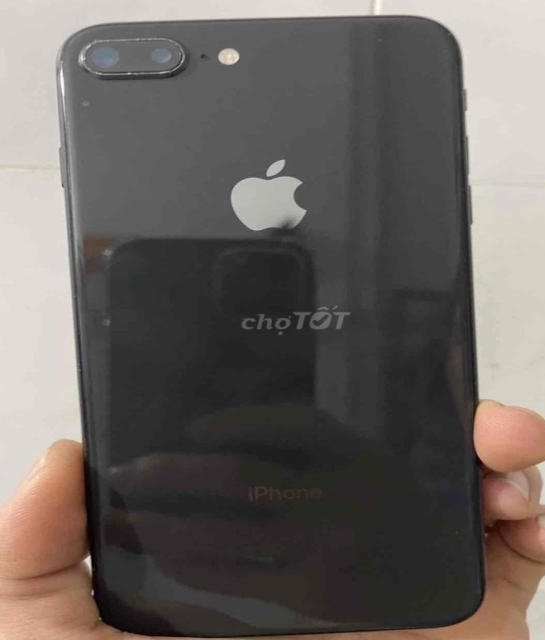scratch: (75, 30, 196, 79), (91, 240, 120, 262), (363, 32, 390, 53), (71, 92, 96, 110), (96, 310, 116, 332)
